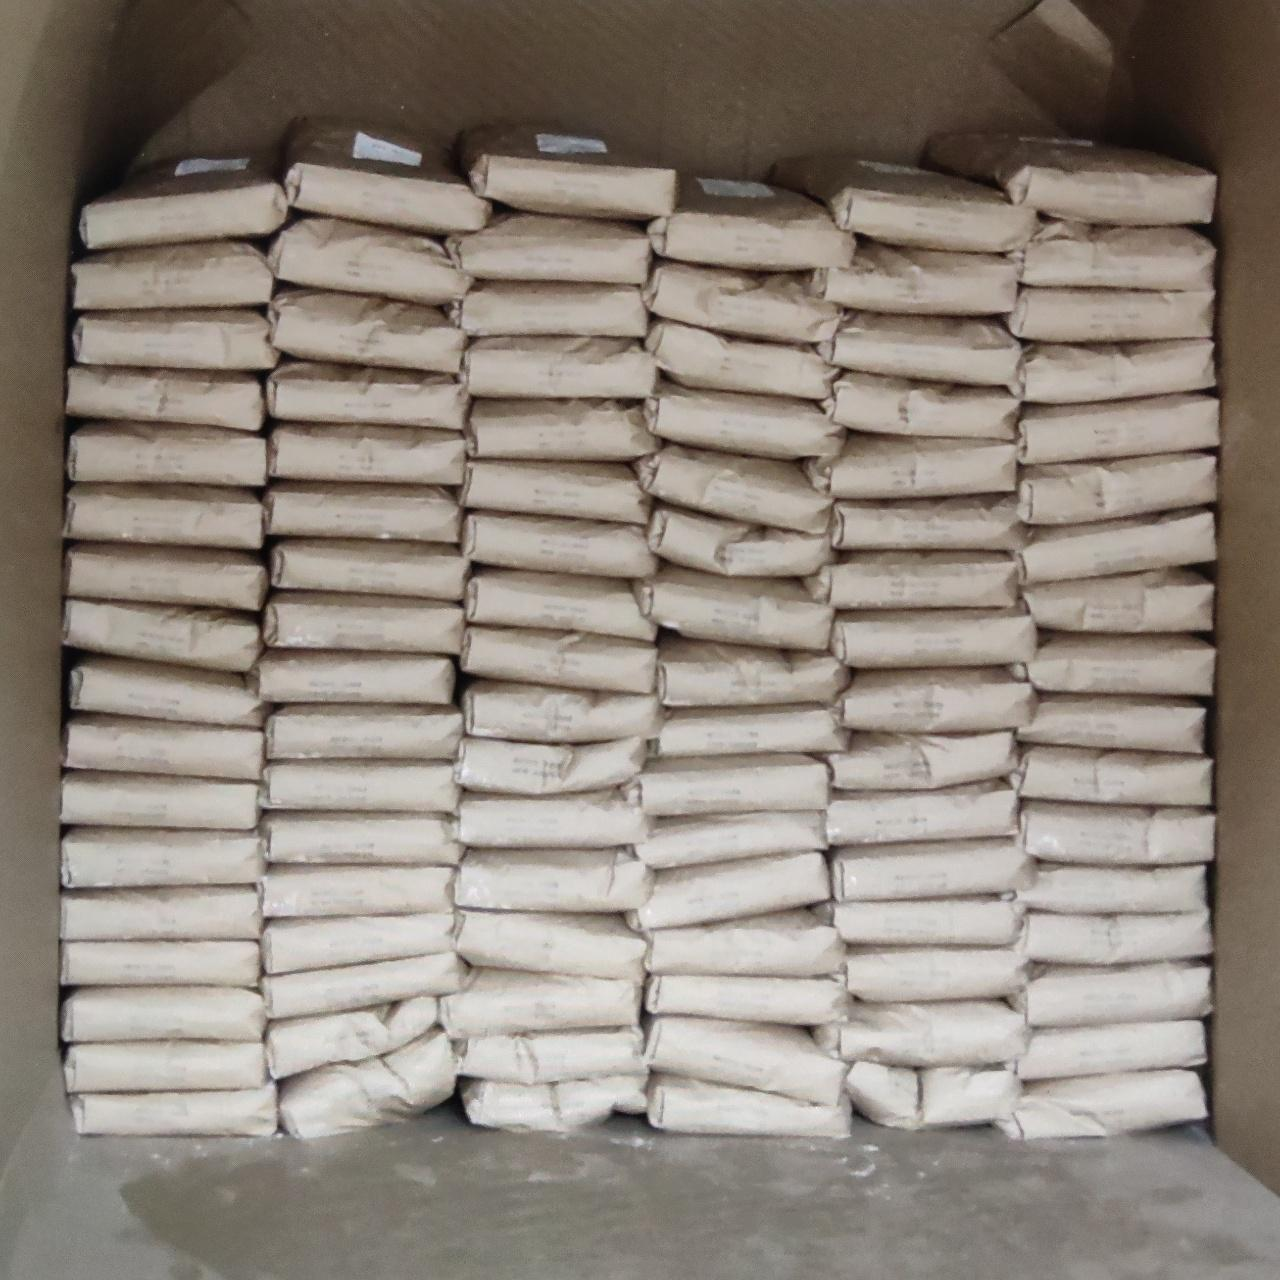sack: (925, 132, 1216, 225), (769, 156, 1034, 252), (280, 118, 488, 234), (456, 123, 675, 217), (79, 150, 287, 248), (649, 175, 855, 270), (280, 1028, 452, 1137), (267, 218, 470, 305), (646, 1016, 844, 1103), (638, 445, 831, 533), (634, 566, 832, 651), (271, 290, 465, 372), (647, 261, 842, 343), (627, 852, 829, 931), (812, 239, 1019, 315), (645, 381, 844, 458), (1016, 508, 1216, 583), (447, 213, 651, 285), (994, 1070, 1207, 1138), (62, 599, 261, 672), (646, 322, 835, 399), (1017, 452, 1216, 524), (1007, 222, 1214, 290), (1019, 394, 1219, 464), (658, 634, 849, 707), (808, 434, 1017, 499), (72, 241, 273, 309), (465, 568, 656, 640), (832, 312, 1020, 384), (268, 998, 436, 1078), (64, 543, 267, 610), (815, 1001, 1024, 1065), (263, 952, 467, 1017), (461, 509, 658, 577), (268, 362, 468, 429), (441, 971, 640, 1037), (645, 910, 844, 976), (67, 421, 266, 486), (63, 483, 263, 549), (461, 626, 656, 693), (69, 658, 261, 726), (66, 366, 266, 430), (839, 667, 1035, 733), (648, 505, 830, 576), (1020, 801, 1214, 866), (831, 372, 1019, 440), (63, 716, 263, 779), (1012, 964, 1210, 1027), (73, 309, 278, 370), (830, 607, 1035, 668), (624, 754, 828, 815), (1019, 339, 1214, 402), (456, 912, 645, 978), (463, 680, 662, 742), (61, 828, 264, 888), (1023, 568, 1213, 633), (455, 850, 652, 912), (805, 552, 1017, 610), (268, 423, 464, 485), (265, 593, 464, 654), (270, 539, 468, 600), (826, 782, 1016, 845), (648, 1077, 849, 1137), (833, 840, 1032, 900), (264, 482, 459, 542), (461, 462, 648, 524), (261, 913, 452, 974), (846, 1061, 1017, 1129), (467, 399, 656, 459), (1019, 745, 1212, 805), (450, 280, 647, 339), (467, 338, 655, 399), (1007, 287, 1212, 342), (60, 772, 260, 829), (1017, 1020, 1205, 1080), (1027, 635, 1214, 695), (62, 987, 265, 1042), (831, 493, 1024, 551), (60, 886, 263, 940), (1017, 695, 1205, 753), (636, 812, 828, 869), (267, 704, 462, 760), (459, 1026, 645, 1083), (64, 1040, 266, 1092), (456, 738, 645, 795), (831, 731, 1015, 789), (459, 1074, 647, 1130), (457, 792, 648, 847), (261, 812, 461, 865), (259, 649, 454, 703), (1021, 907, 1211, 962), (72, 1084, 277, 1135), (260, 761, 458, 812), (656, 706, 847, 757), (847, 947, 1026, 1002), (646, 976, 847, 1024), (263, 867, 454, 917), (1017, 864, 1206, 913), (61, 941, 260, 986), (835, 898, 1021, 945)
